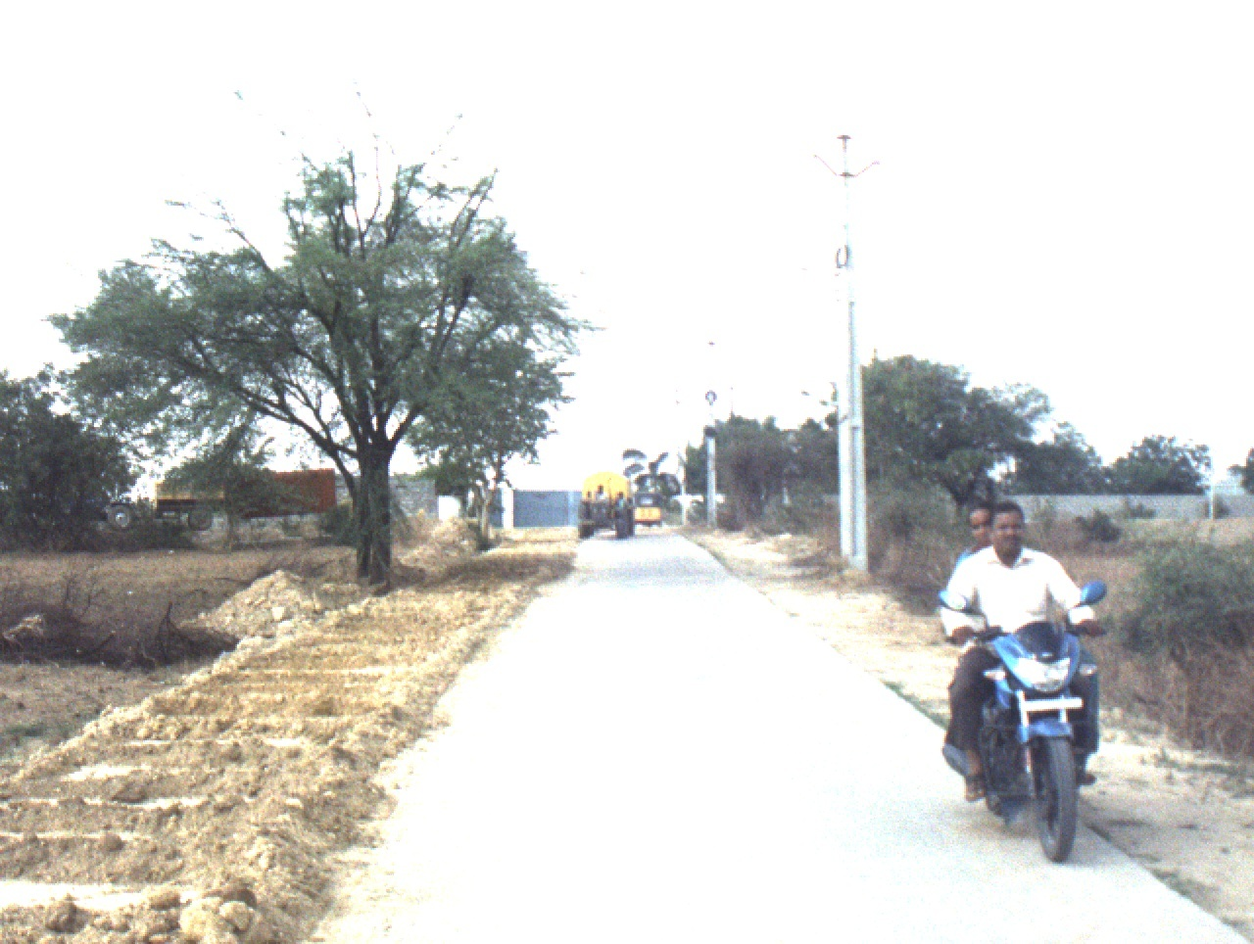autorickshaw: (632, 490, 663, 529)
motorcycle: (936, 580, 1106, 863)
rider: (938, 501, 1106, 803), (956, 506, 1101, 751), (594, 485, 608, 509), (613, 493, 628, 510)
vehicle fallback: (70, 468, 227, 530), (578, 470, 636, 542)
